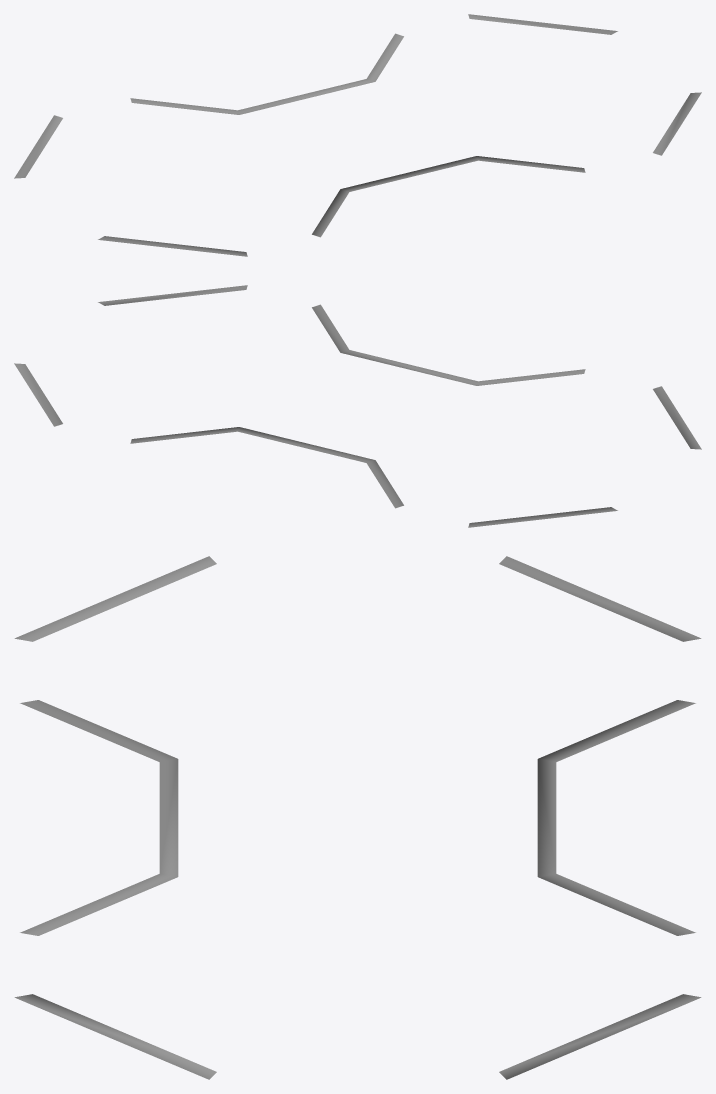
Rendered from mesh_Spaceship_CTF_FloorPattern.fbx.
3 renders of one model, top to bottom at view 1: azimuth 30°, elevation 25°; view 2: azimuth 150°, elevation 25°; view 3: azimuth 270°, elevation 25°, orthographic. The views are drawn at different scales.
Parts seen in each view (by area): view 1: CutedFloorBase.058; view 2: CutedFloorBase.058; view 3: CutedFloorBase.058.
Boxes of the visible parts, x1,y1,x2,y2 form: CutedFloorBase.058: (14, 14, 701, 256); CutedFloorBase.058: (14, 285, 701, 527); CutedFloorBase.058: (14, 556, 701, 1079).
Size of the model in its own units: 56.09 by 0 by 31.13.
